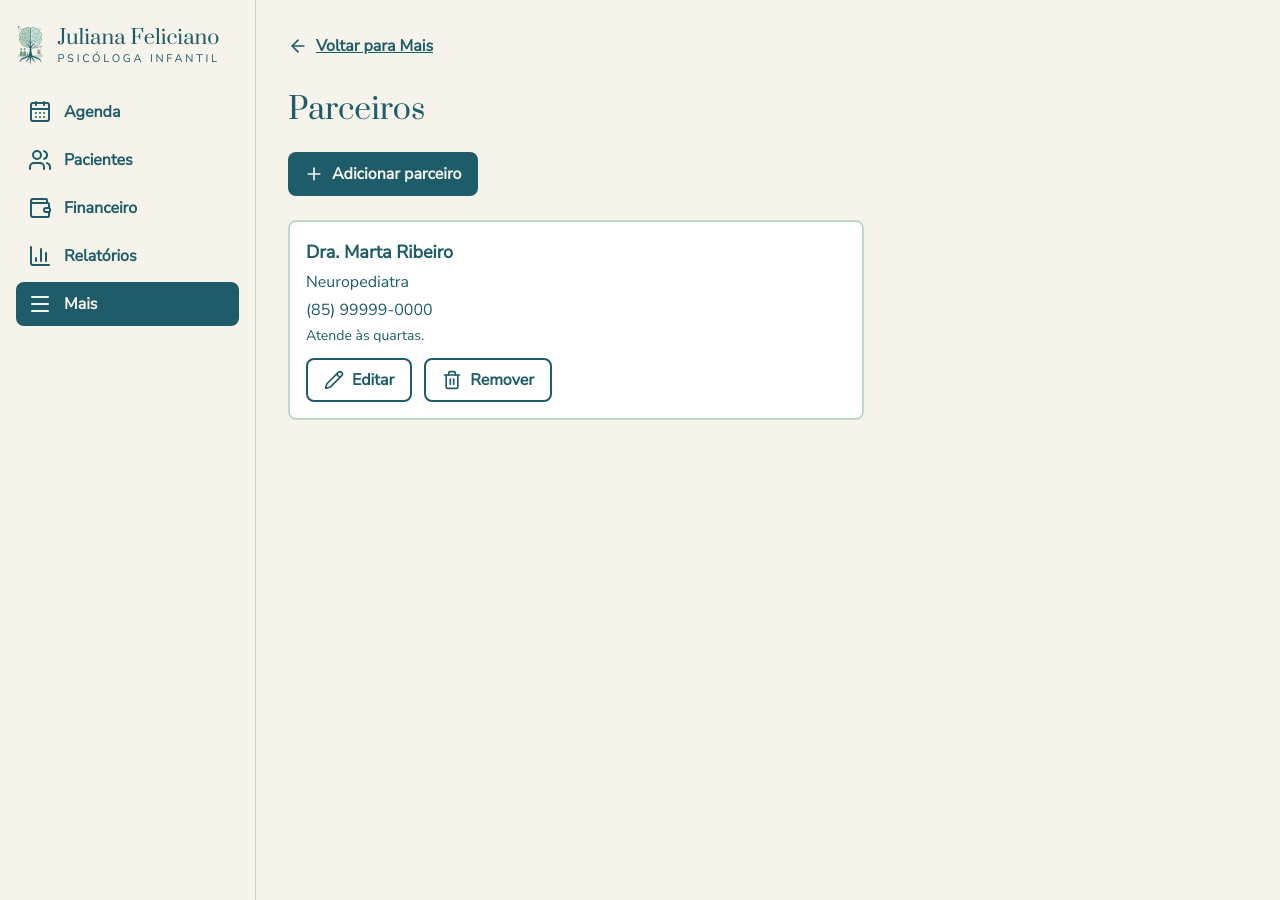
Test case: TelaParceiros › remover › pede confirmação num diálogo; "Cancelar" mantém o parceiro
Click the button with aria-label "Remover Dra. Marta Ribeiro": (488, 380) [424,358,552,402]
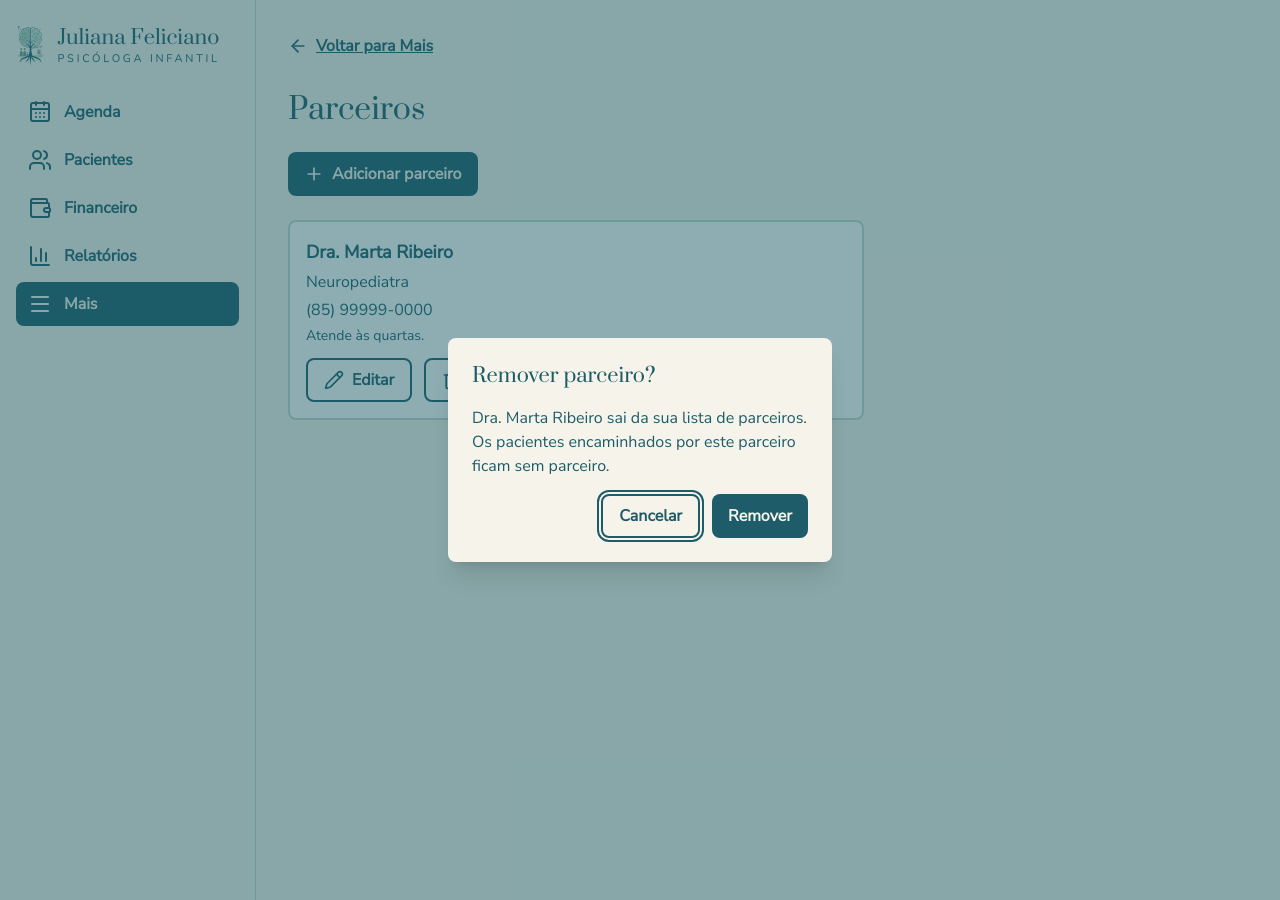
expect the dialog "Remover parceiro?" shows "Dra. Marta Ribeiro": met, box [472,407,807,477]
Click the button "Cancelar": (651, 516) [601,494,700,538]
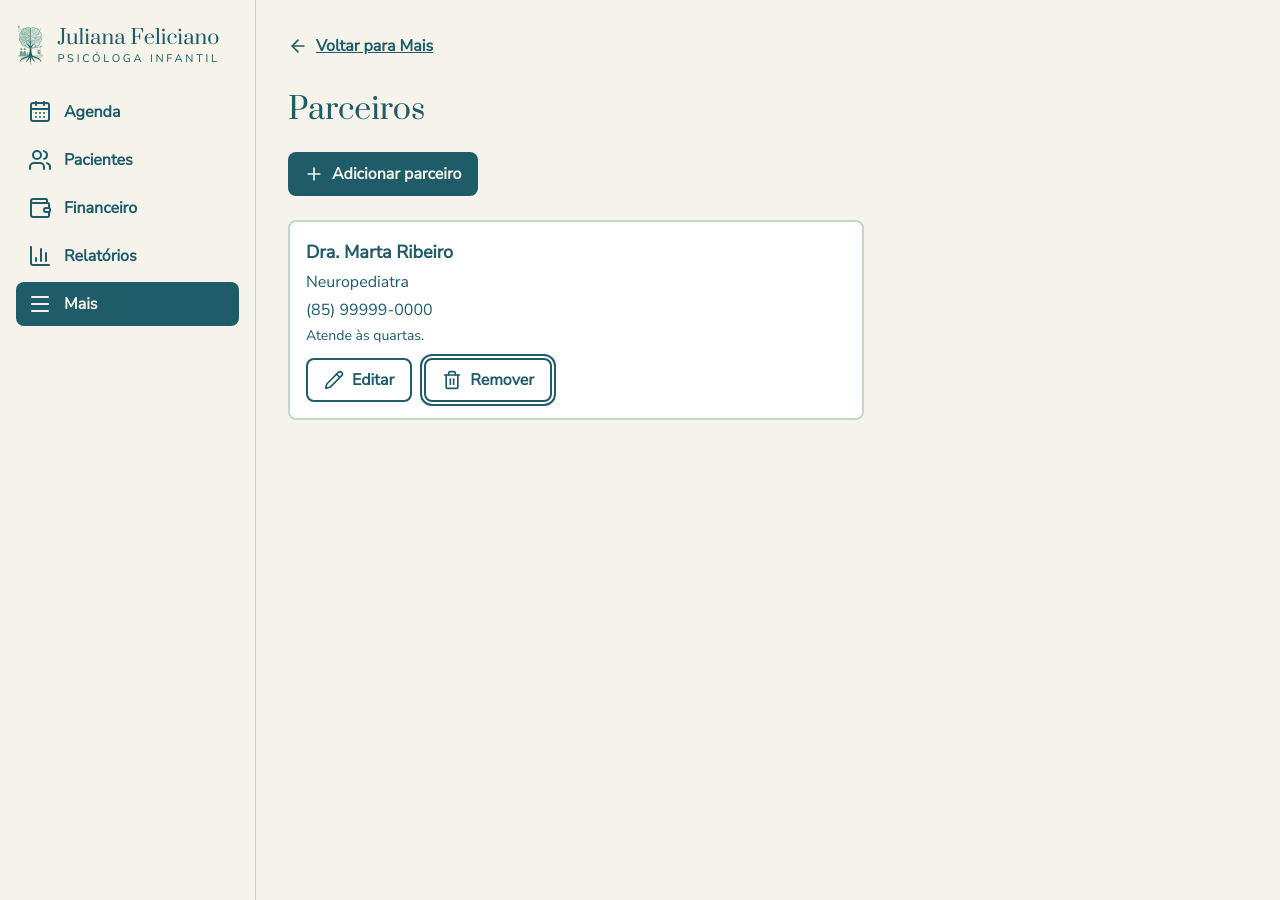
expect the list item shows "Dra. Marta Ribeiro": met, box [306,240,453,264]
expect the dialog is gone: met
